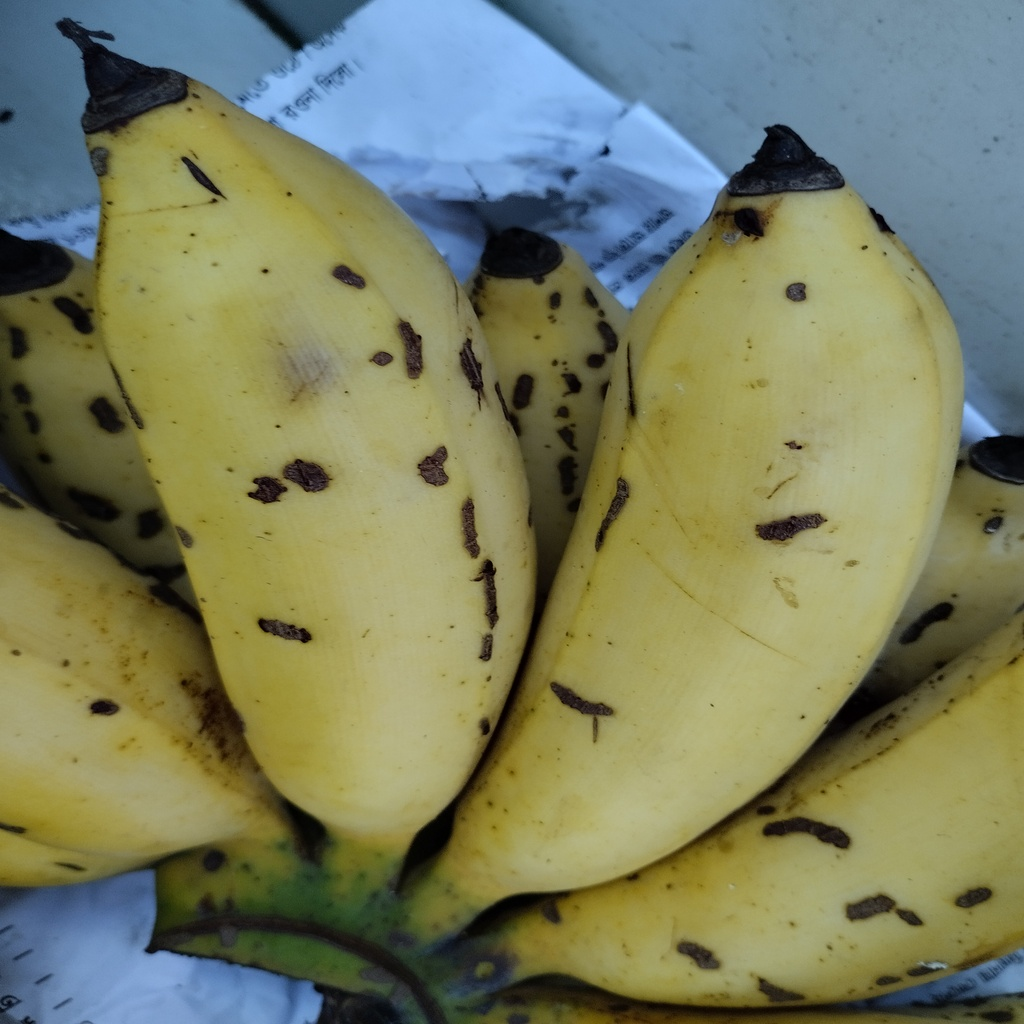unhealthy: (455, 177, 955, 891), (84, 100, 535, 818)
